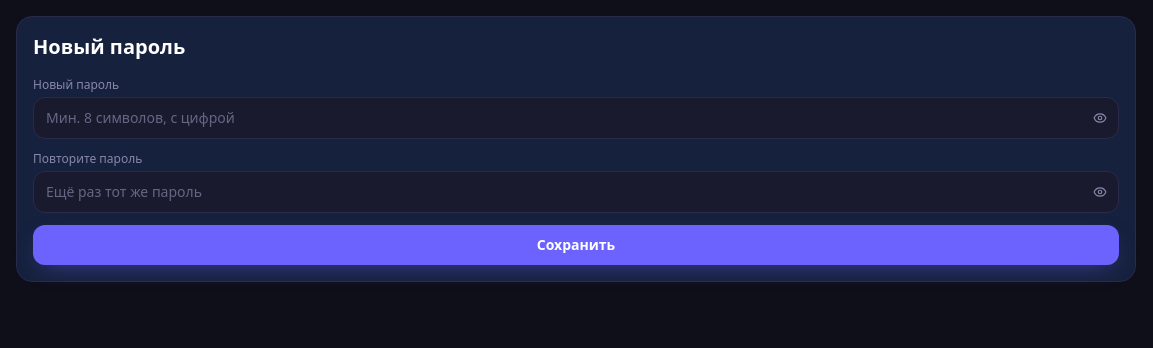
/reset-password › короткий пароль отсекается до отправки тем же правилом, что и API
Type "a1b2" into the password field labelled "Новый пароль" at (576,118), box [33,97,1119,139]
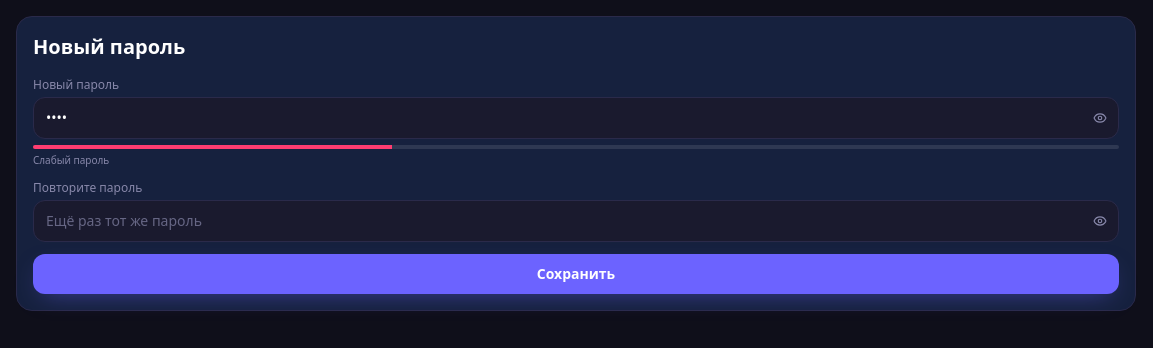
Type "a1b2" into the password field labelled "Повторите пароль" at (576,221), box [33,200,1119,242]
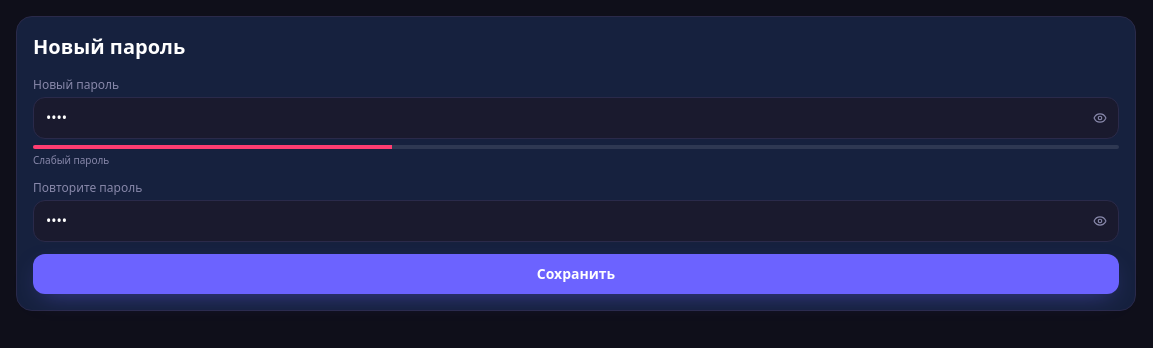
Click the button "Сохранить" at (576,274), box [33,254,1119,294]
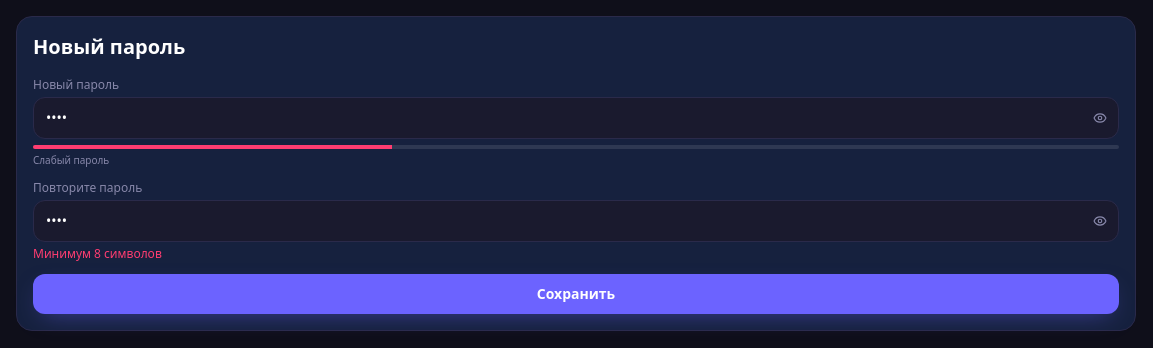
Now the message reads "Минимум 8 символов", box [33,245,162,262]
